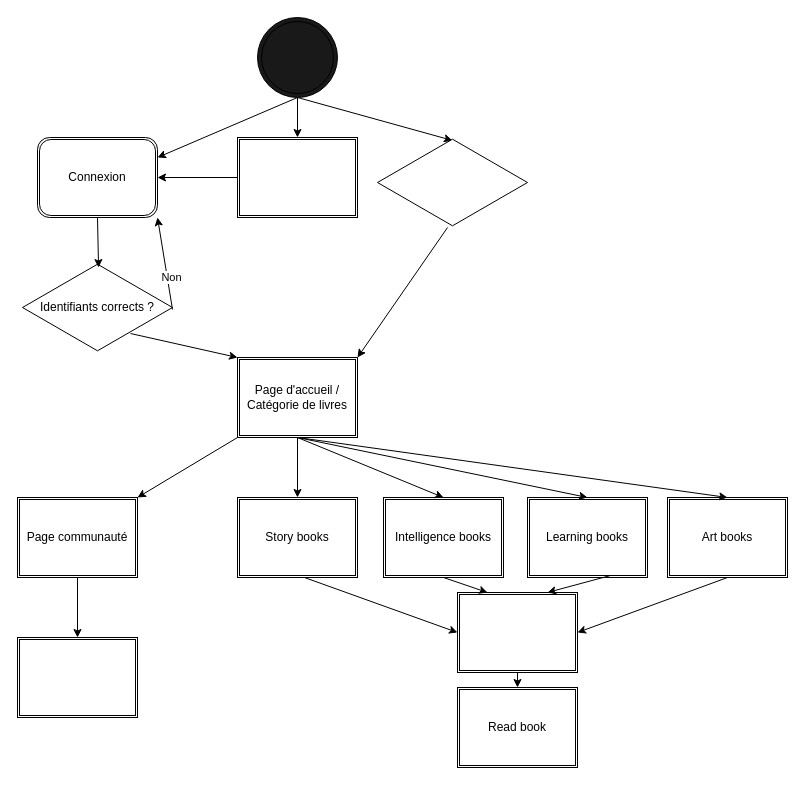
Some shapes in this 805 by 785 pixel diagram are drawn without their labels. The shapes that lost their labels are listed below. From the top down, each one's centre as x and y in pixels, then its label:
At pixel 297 57: "Arrivée sur le site".
At pixel 297 177: "Inscription".
At pixel 452 182: "Déjà connecté ?".
At pixel 517 632: "Book details".
At pixel 77 677: "Page chat".
